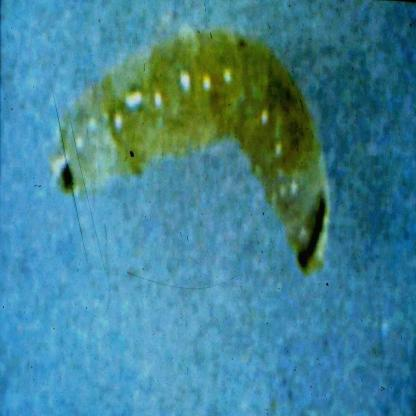whorl-maggot: (46, 27, 332, 282)
